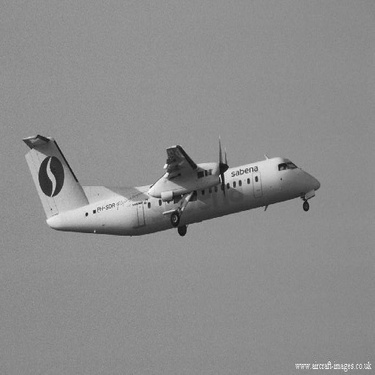airplane: (17, 127, 326, 241)
